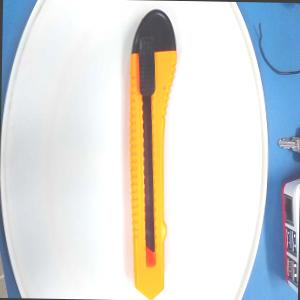estilete: (125, 7, 178, 300)
